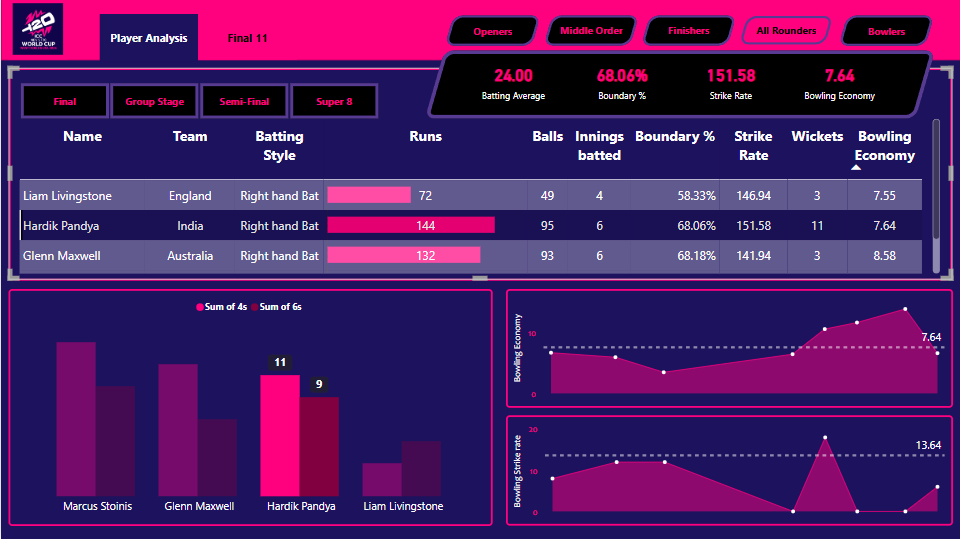

This screenshot's page, from the dashboard's own definition file:
{"tool":"powerbi","page":{"name":"All Rounders","canvas":[1280,720],"ordinal":4},"visuals":[{"type":"shape","box":[565.6,67.8,680.6,91.2],"z":0,"group":"g3"},{"type":"group","id":"g1","title":"Group 1","box":[10,91.4,1258.6,284.3],"z":0},{"type":"shape","box":[10,91.4,1258.6,284.3],"z":0,"group":"g1"},{"type":"shape","box":[0,0,1280,81.8],"z":1000},{"type":"group","id":"g2","title":"Group 2","box":[619.4,75.8,563.3,64.4],"z":1000,"group":"g3"},{"type":"tableEx","fields":{"Values":["dim_players.name","dim_players.team","dim_players.battingStyle","Measures (3).Total Runs","Measures (3).Total balls faced","Measures (3).Total innings batted","Measures (3).Boundary %","Measures (3).Strike Rate","Measures (3).Wickets","Measures (3).Bowling Economy"]},"box":[18.2,154.8,1238.4,216.2],"z":1000,"group":"g1"},{"type":"slicer","fields":{"Values":["dim_match_summary.Stage"]},"box":[0,105.7,526.9,61.7],"z":2000},{"type":"group","id":"g3","title":"Group 3","box":[565.6,67.8,680.6,91.2],"z":3000},{"type":"card","fields":{"Values":["Measures (3).Batting Average"]},"box":[619.4,75.8,130.1,66.5],"z":3000,"group":"g2"},{"type":"card","fields":{"Values":["Measures (3).Boundary %"]},"box":[764.7,76,129.8,66.6],"z":4000,"group":"g2"},{"type":"clusteredColumnChart","title":"Boundaries Scored By Openers","fields":{"Y":["Sum(fact_bating_summary.4s)","Sum(fact_bating_summary.6s)"],"Category":["dim_players.name"]},"box":[10,387.1,645.7,315.7],"z":4000},{"type":"image","box":[9.6,0,79.6,81],"z":5000},{"type":"card","fields":{"Values":["Measures (3).Strike Rate"]},"box":[909.2,76,129.8,66.6],"z":5000,"group":"g2"},{"type":"actionButton","box":[132,20,131,63],"z":6000},{"type":"card","fields":{"Values":["Measures (3).Bowling Economy"]},"box":[1053.6,76,129.8,66.6],"z":6000,"group":"g2"},{"type":"actionButton","box":[263.1,20,131.2,61.2],"z":7000},{"type":"group","id":"g4","title":"Group 4","box":[591.8,22.4,652.9,41.2],"z":8000},{"type":"actionButton","box":[591.8,22.7,127.9,40.9],"z":9000,"group":"g4"},{"type":"shape","box":[577.8,93.3,646.7,40],"z":9000},{"type":"actionButton","box":[722.7,23,127.3,40.6],"z":10000,"group":"g4"},{"type":"areaChart","fields":{"Y":["Measures (3).Bowling Economy"],"Category":["dim_match_summary.matchDate"]},"box":[672.9,387.1,595.7,158.6],"z":10000},{"type":"actionButton","box":[853.9,22.4,127.3,40.6],"z":11000,"group":"g4"},{"type":"areaChart","fields":{"Y":["Measures (3).Bowling Strike rate"],"Category":["dim_match_summary.matchDate"]},"box":[672.9,555.7,595.7,147.1],"z":11000},{"type":"actionButton","box":[14.4,5,70,71.2],"z":12000},{"type":"actionButton","box":[984.2,23,127.6,40.3],"z":12000,"group":"g4"},{"type":"actionButton","box":[1117,22.5,127.6,41],"z":13000,"group":"g4"}]}

Visuals, with their boxes in screenshot pixels (x1, y1, x2, y2), scaled from the page's 1280x720 canvas onto the 960x539 screenshot:
shape: box(424, 51, 935, 119)
"Group 1" group: box(8, 68, 951, 281)
shape: box(8, 68, 951, 281)
shape: box(0, 0, 959, 61)
"Group 2" group: box(465, 57, 887, 105)
tableEx - dim_players.name x dim_players.team: box(14, 116, 942, 278)
slicer - dim_match_summary.Stage: box(0, 79, 395, 125)
"Group 3" group: box(424, 51, 935, 119)
card - Measures (3).Batting Average: box(465, 57, 562, 107)
card - Measures (3).Boundary %: box(574, 57, 671, 107)
"Boundaries Scored By Openers" clusteredColumnChart: box(8, 290, 492, 526)
image: box(7, 0, 67, 61)
card - Measures (3).Strike Rate: box(682, 57, 779, 107)
actionButton: box(99, 15, 197, 62)
card - Measures (3).Bowling Economy: box(790, 57, 888, 107)
actionButton: box(197, 15, 296, 61)
"Group 4" group: box(444, 17, 934, 48)
actionButton: box(444, 17, 540, 48)
shape: box(433, 70, 918, 100)
actionButton: box(542, 17, 638, 48)
areaChart - Measures (3).Bowling Economy x dim_match_summary.matchDate: box(505, 290, 951, 409)
actionButton: box(640, 17, 736, 47)
areaChart - Measures (3).Bowling Strike rate x dim_match_summary.matchDate: box(505, 416, 951, 526)
actionButton: box(11, 4, 63, 57)
actionButton: box(738, 17, 834, 47)
actionButton: box(838, 17, 933, 48)
